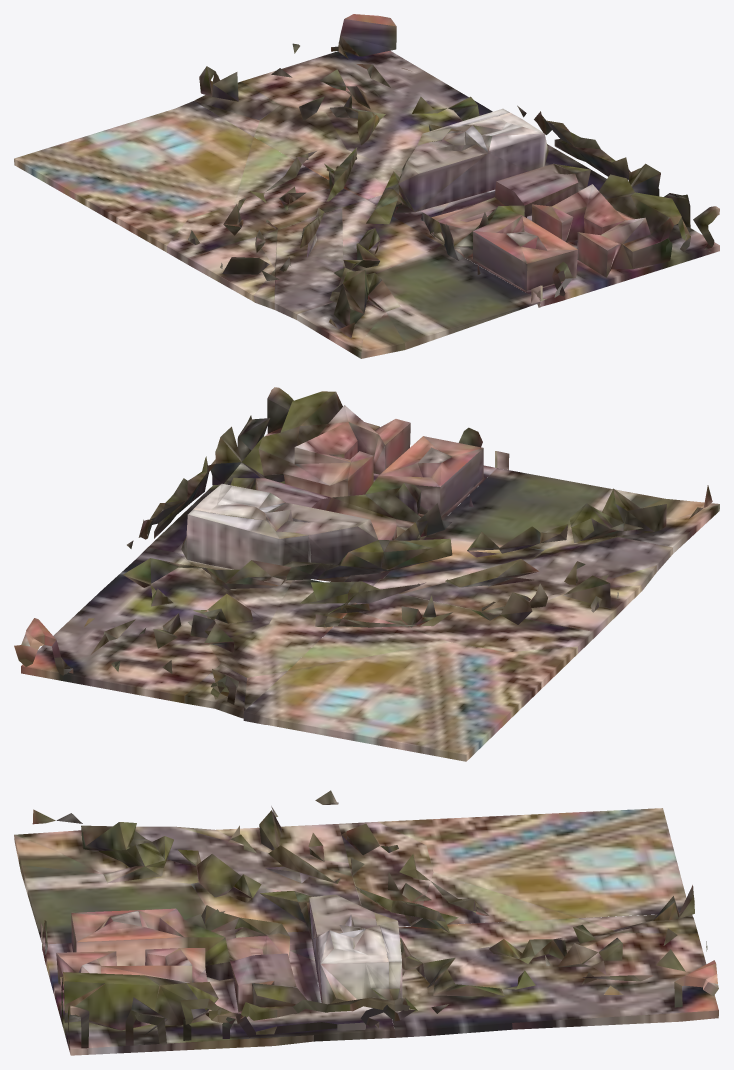
3 views of the same model, one above another, from view 1: azimuth 30°, elevation 25°; view 2: azimuth 150°, elevation 25°; view 3: azimuth 270°, elevation 25° (orthographic). The views are drawn at different scales.
Parts seen in each view (by area): view 1: Mesh_0; view 2: Mesh_0; view 3: Mesh_0.
Part boxes in pixels (x1,y1,x2,y2): Mesh_0: (14, 14, 719, 358); Mesh_0: (14, 387, 719, 761); Mesh_0: (14, 790, 718, 1055).
Bounding box in the file's own units: 266 × 33.6 × 330.
Materials: 1 (1 with a texture image).
